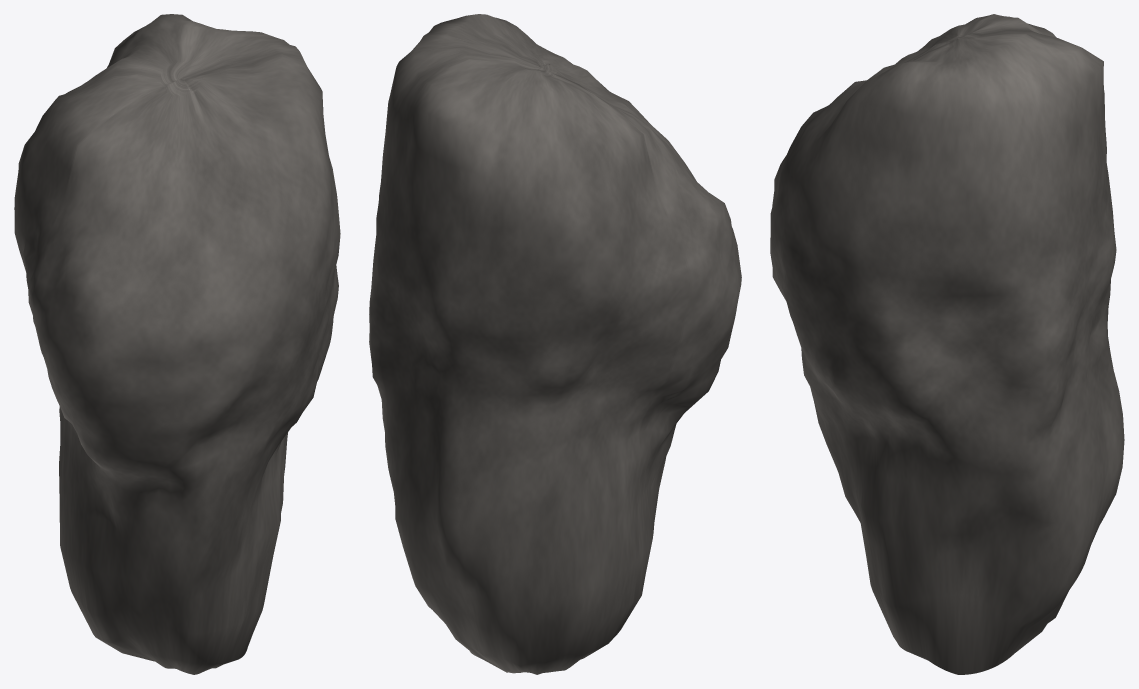
3 views of the same model, side by side, from view 1: azimuth 30°, elevation 25°; view 2: azimuth 150°, elevation 25°; view 3: azimuth 270°, elevation 25° (orthographic). The views are drawn at different scales.
Visible parts, largest first — view 1: Halley; view 2: Halley; view 3: Halley.
Boxes of the visible parts, x1=… form: Halley: x1=14, y1=14, x2=340, y2=674; Halley: x1=369, y1=14, x2=741, y2=674; Halley: x1=770, y1=14, x2=1124, y2=674.
Size of the model in its own units: 7.53 by 15.14 by 7.58.
Materials: 1 (1 with a texture image).
